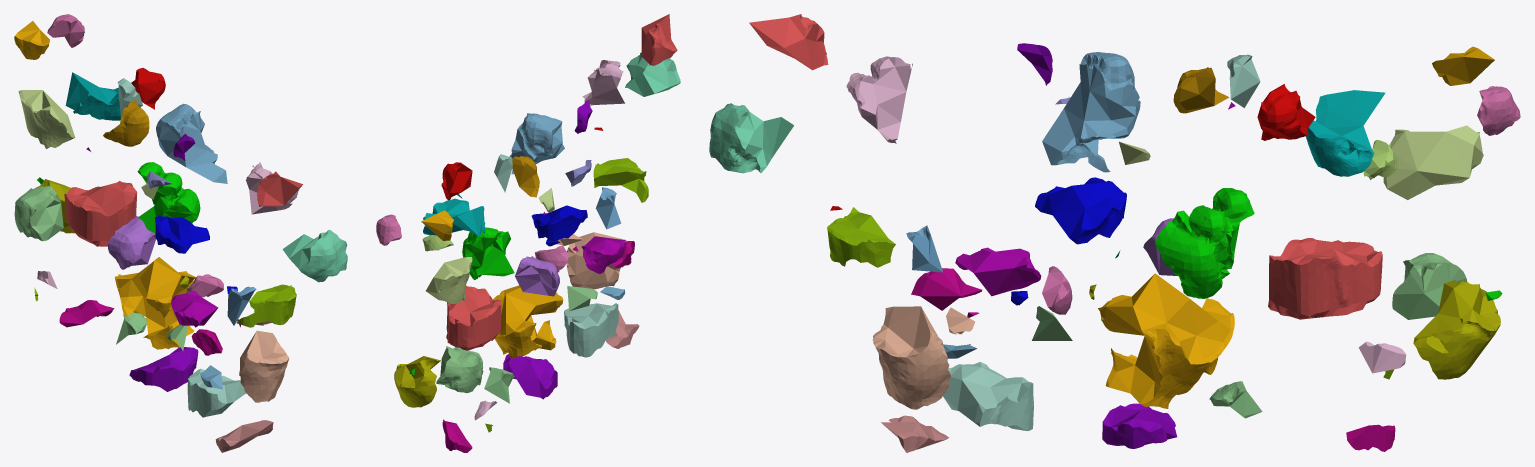
File: fractured_11_45pcs_transformed.glb
3 renders of one model, left to right at view 1: azimuth 30°, elevation 25°; view 2: azimuth 150°, elevation 25°; view 3: azimuth 270°, elevation 25°, orthographic. The views are drawn at different scales.
Parts seen in each view (by area): view 1: piece_0.obj, piece_1.obj, piece_2.obj, piece_7.obj, piece_22.obj, piece_8.obj, piece_3.obj, piece_5.obj, piece_16.obj, piece_13.obj, piece_24.obj, piece_4.obj (+18 smaller); view 2: piece_0.obj, piece_1.obj, piece_4.obj, piece_2.obj, piece_8.obj, piece_11.obj, piece_3.obj, piece_16.obj, piece_22.obj, piece_7.obj, piece_14.obj, piece_5.obj (+21 smaller); view 3: piece_0.obj, piece_1.obj, piece_2.obj, piece_8.obj, piece_7.obj, piece_11.obj, piece_5.obj, piece_13.obj, piece_4.obj, piece_22.obj, piece_10.obj, piece_6.obj (+20 smaller).
Boxes of the visible parts, x1,y1,x2,y2 form: piece_0.obj: (115,257,195,349); piece_1.obj: (64,181,137,246); piece_2.obj: (156,103,227,183); piece_7.obj: (239,330,289,402); piece_22.obj: (282,229,347,282); piece_8.obj: (137,162,200,233); piece_3.obj: (14,186,63,241); piece_5.obj: (18,90,75,148); piece_16.obj: (129,347,198,391); piece_13.obj: (65,72,121,120); piece_24.obj: (108,216,155,269); piece_4.obj: (187,368,246,417); piece_0.obj: (493,285,563,358); piece_1.obj: (446,285,501,350); piece_4.obj: (564,303,618,357); piece_2.obj: (509,113,564,174); piece_8.obj: (462,227,514,279); piece_11.obj: (394,356,440,407); piece_3.obj: (436,346,483,392); piece_16.obj: (503,354,557,399); piece_22.obj: (625,52,680,96); piece_7.obj: (566,232,626,289); piece_14.obj: (593,158,648,202); piece_5.obj: (426,257,472,303); piece_0.obj: (1098,273,1234,408); piece_1.obj: (1268,238,1382,319); piece_2.obj: (1042,52,1140,172); piece_8.obj: (1155,188,1254,298); piece_7.obj: (872,306,950,409); piece_11.obj: (1413,280,1500,379); piece_5.obj: (1383,125,1483,199); piece_13.obj: (1305,90,1385,176); piece_4.obj: (943,362,1033,430); piece_22.obj: (709,103,793,173); piece_10.obj: (1035,177,1126,244); piece_6.obj: (846,56,912,143).
Bounding box in the file's own units: 0.7335 × 1.58 × 2.68.
